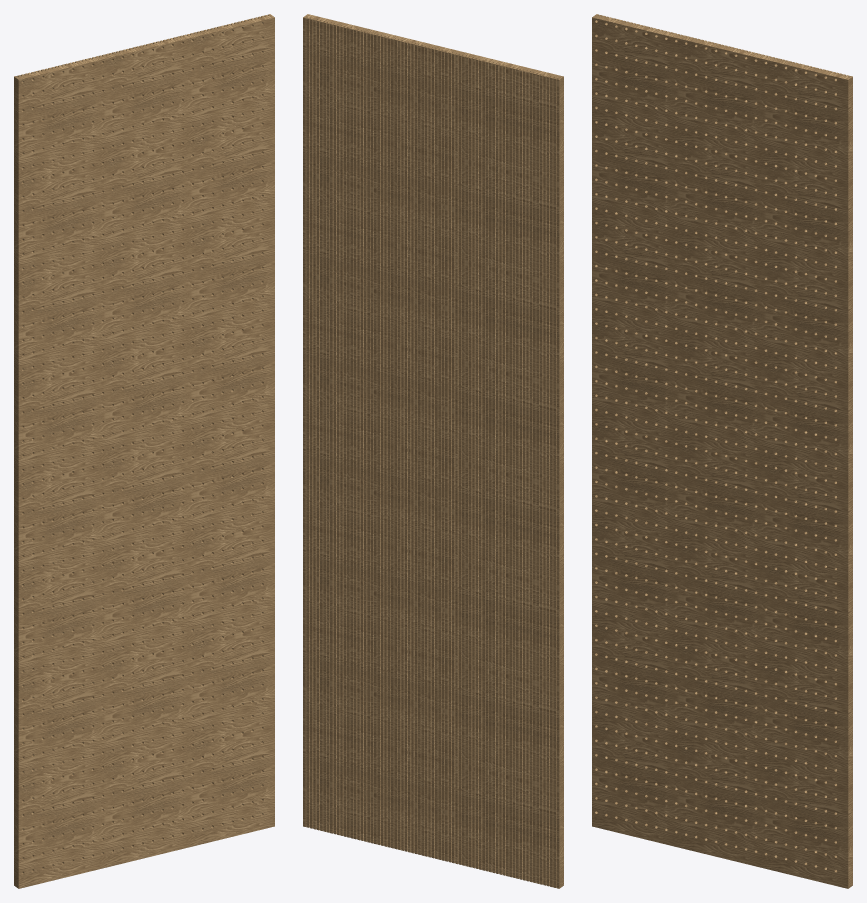
File: DSA 6_2.glb
The picture shows the model from 3 angles, left to right: view 1: azimuth 30°, elevation 25°; view 2: azimuth 150°, elevation 25°; view 3: azimuth 330°, elevation 25°; orthographic projection.
Parts seen in each view (by area): view 1: DSA 6_2 v1; view 2: DSA 6_2 v1; view 3: DSA 6_2 v1.
Boxes of the visible parts, x1,y1,x2,y2 form: DSA 6_2 v1: (14, 14, 274, 888); DSA 6_2 v1: (303, 14, 563, 888); DSA 6_2 v1: (592, 14, 852, 888).
Bounding box in the file's own units: 23.86 × 72 × 0.7515.
Materials: 1 (1 with a texture image).
